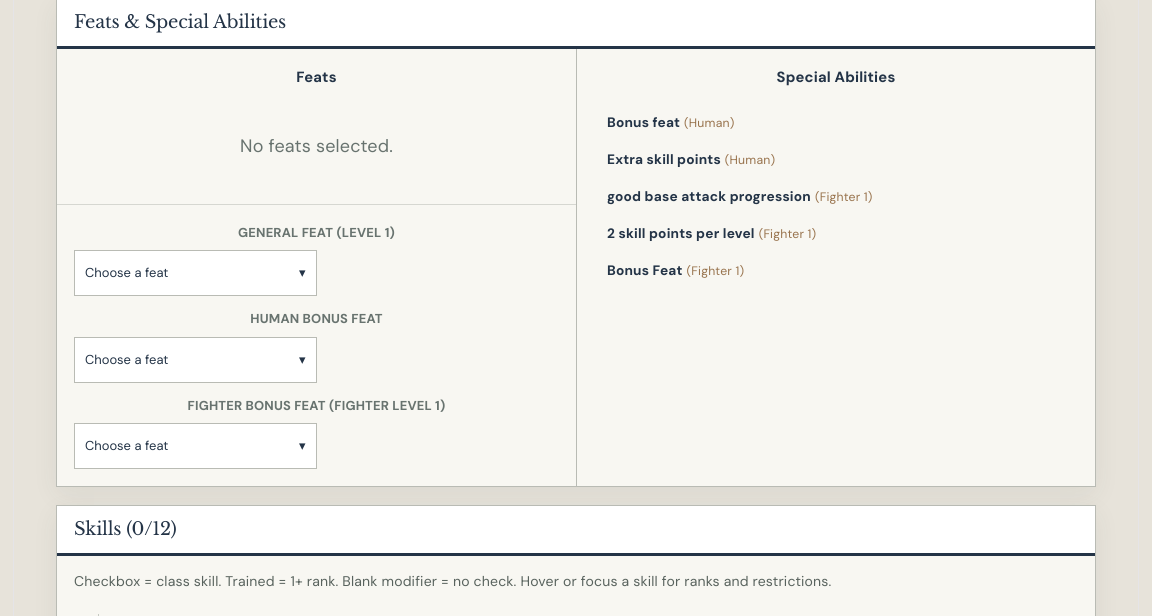
it: armor and shield proficiency › lets a character choose a specific exotic weapon for Exotic Weapon Proficiency
(page scrolled)
Click the button named "General feat (level 1)" at (195, 273), box top-left (74, 250), bottom-right (316, 296)
(page scrolled)
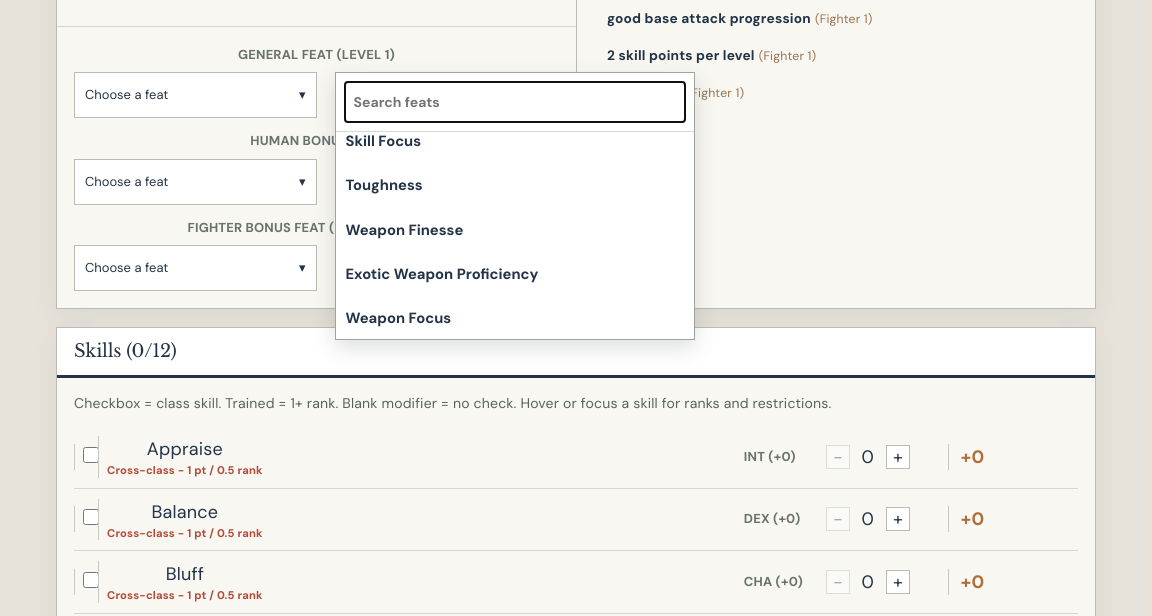
Click the option "Exotic Weapon Proficiency" at (514, 274), box top-left (336, 252), bottom-right (694, 296)
(page scrolled)
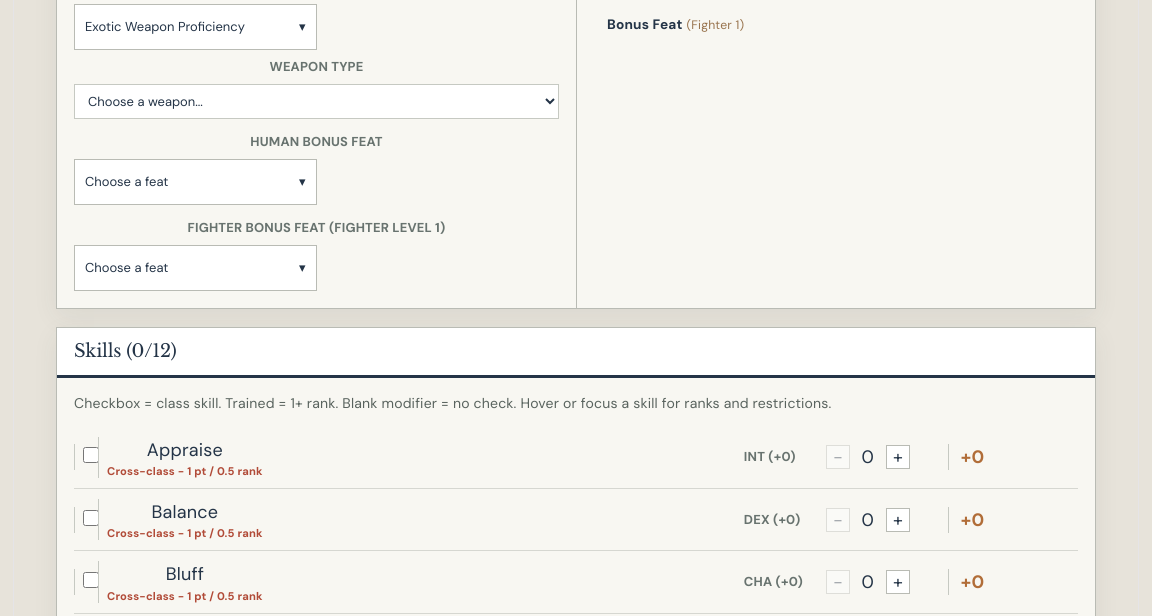
Select "Spiked Chain" in the dropdown named "General feat (level 1) weapon" at (316, 101), box top-left (74, 84), bottom-right (559, 119)
(page scrolled)
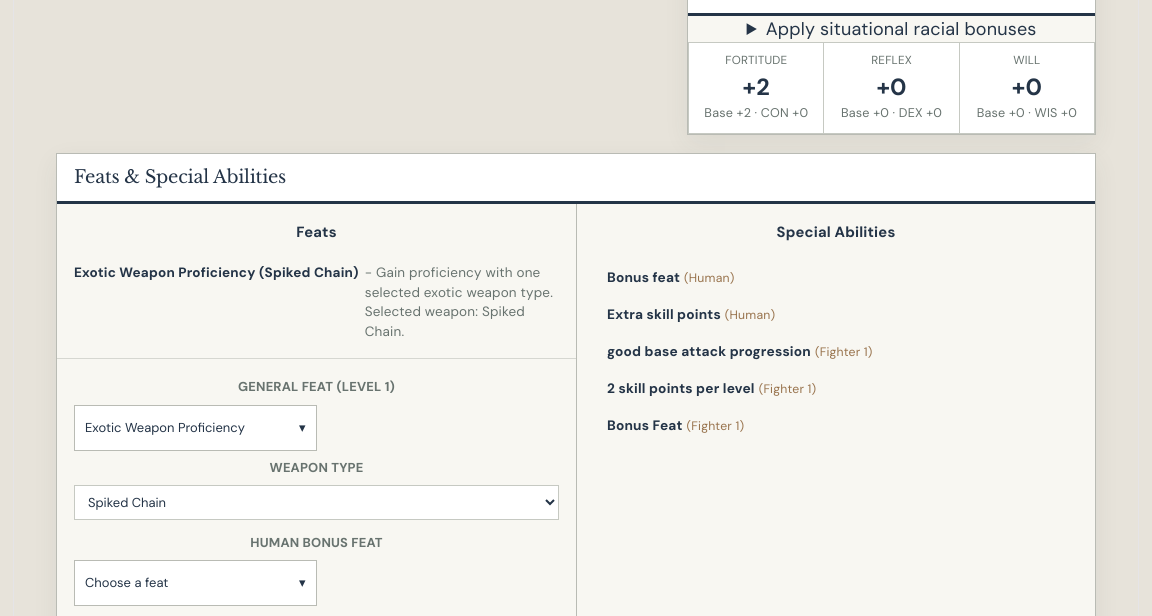
Check: the text "Exotic Weapon Proficiency (Spiked Chain)" is shown, box top-left (74, 260), bottom-right (359, 286)
